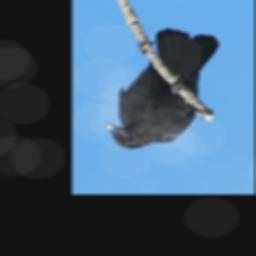Crow: (104, 27, 220, 150)
